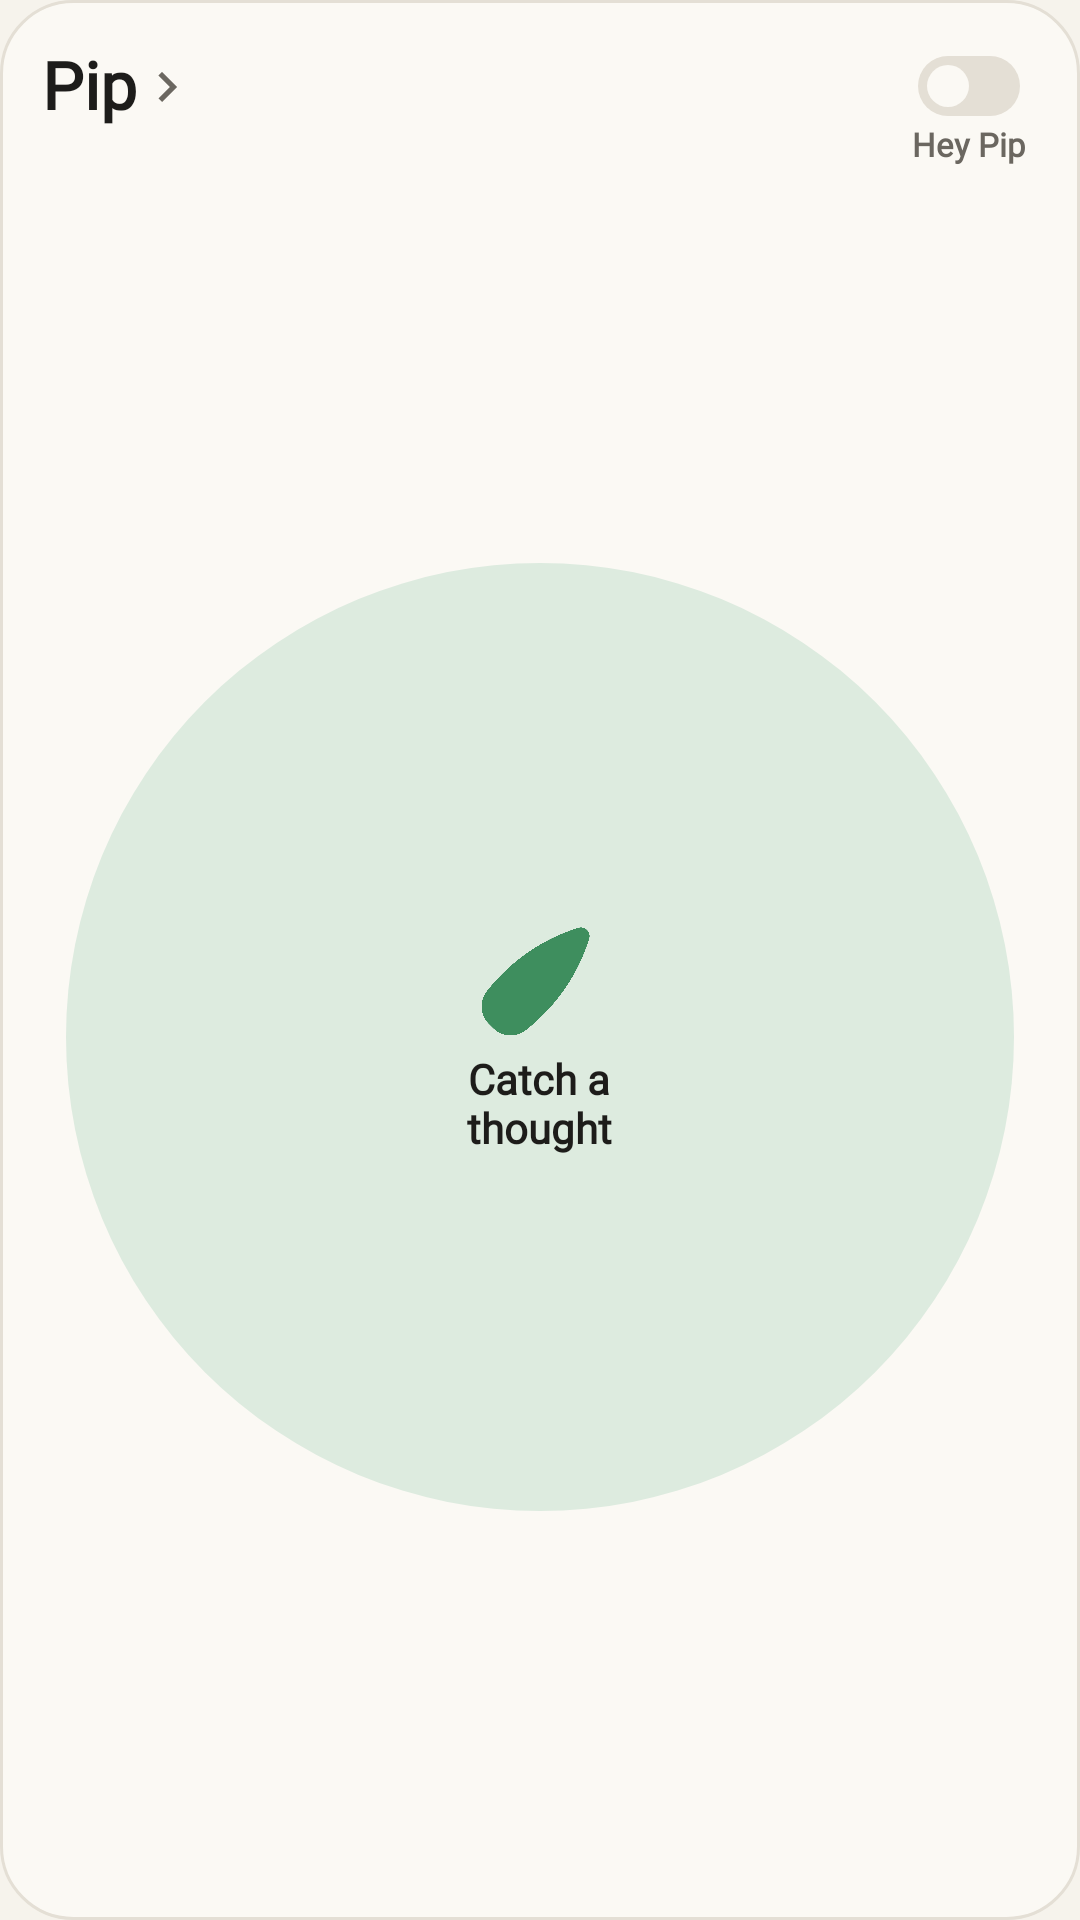

Locate icon controls on the screen. Image size 1080px x 1920px, boxes as (x1, y1, x2, y2).
chevron right: (158, 72, 177, 102)
seed: (482, 927, 590, 1035)
widget sw off: (918, 56, 1020, 116)
